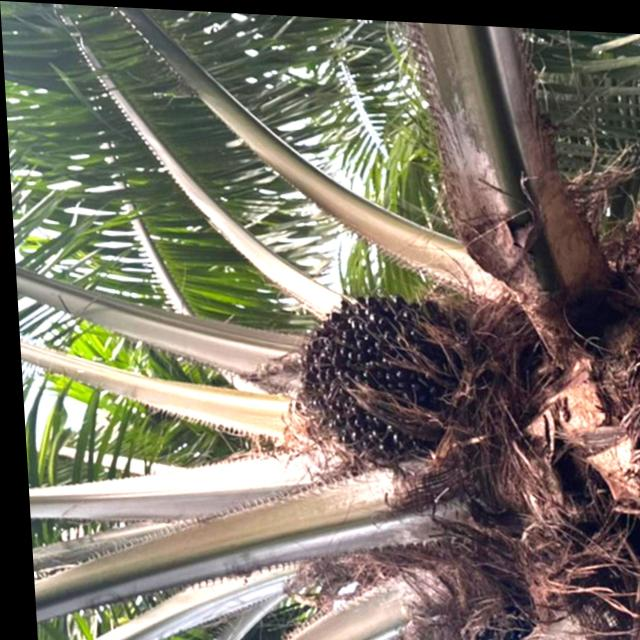almost: (270, 285, 462, 464), (439, 574, 529, 640)
